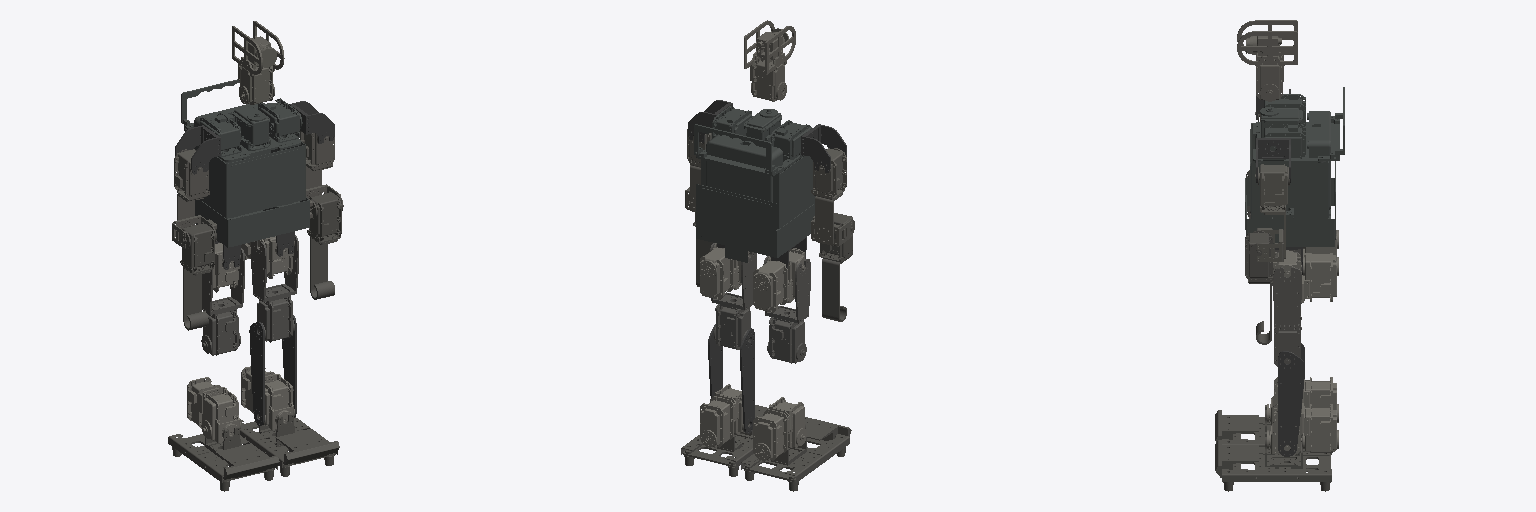
--- Render facts (derived) ---
Views: 3 orthographic renders of the robot side by side, from view 1: azimuth 30°, elevation 25°; view 2: azimuth 150°, elevation 25°; view 3: azimuth 270°, elevation 25°.
Model sigmaban2019_urdf with 27 links and 26 joints (20 revolute, 6 fixed), rooted at tronc, posed every joint at zero.
Links seen in each view (by area): view 1: tronc, right_foot_cleat_back_left, left_foot_cleat_front_right, left_knee, head, right_radius, left_radius, right_knee, mx106_block, right_humerus, tibia_2, mx106_block_mir_2 (+5 smaller); view 2: tronc, right_foot_cleat_back_left, head, right_knee, right_humerus, mx106_block, left_knee, mx106_block_mir_2, mx106_block_mir, tibia_2, right_radius, left_foot_cleat_front_right (+4 smaller); view 3: tronc, left_foot_cleat_front_right, head, left_knee, tibia_2, mx106_block_mir_2, left_humerus, mx106_block_2, right_foot_cleat_back_left, left_radius, mx106_block, u_shoulder.
Link boxes in pixels (<box>): tronc: <box>181,79,309,247</box>; right_foot_cleat_back_left: <box>168,427,279,491</box>; left_foot_cleat_front_right: <box>240,414,339,476</box>; left_knee: <box>251,235,298,342</box>; head: <box>232,21,284,104</box>; right_radius: <box>180,223,216,330</box>; left_radius: <box>307,192,343,299</box>; right_knee: <box>201,248,244,355</box>; mx106_block: <box>187,377,240,442</box>; right_humerus: <box>172,149,216,248</box>; tibia_2: <box>249,315,296,425</box>; mx106_block_mir_2: <box>241,366,294,429</box>; tronc: <box>694,106,815,262</box>; right_foot_cleat_back_left: <box>741,417,851,491</box>; head: <box>744,20,795,101</box>; right_knee: <box>763,256,810,363</box>; right_humerus: <box>811,148,852,246</box>; mx106_block: <box>753,397,806,460</box>; left_knee: <box>710,243,756,349</box>; mx106_block_mir_2: <box>700,384,749,447</box>; mx106_block_mir: <box>753,248,805,312</box>; tibia_2: <box>708,324,754,433</box>; right_radius: <box>819,213,854,321</box>; left_foot_cleat_front_right: <box>681,405,768,476</box>; tronc: <box>1245,87,1344,246</box>; left_foot_cleat_front_right: <box>1215,432,1331,491</box>; head: <box>1237,20,1297,101</box>; left_knee: <box>1272,252,1301,367</box>; tibia_2: <box>1278,343,1304,456</box>; mx106_block_mir_2: <box>1267,403,1338,454</box>; left_humerus: <box>1255,164,1289,261</box>; mx106_block_2: <box>1272,250,1338,302</box>; right_foot_cleat_back_left: <box>1215,405,1301,446</box>; left_radius: <box>1245,230,1273,344</box>; mx106_block: <box>1267,377,1338,424</box>; u_shoulder: <box>1256,138,1290,182</box>.
Bounding box of the posed robot: 0.2736 × 0.1899 × 0.7061 m (x, y, z).
Meshes: 21 distinct files referenced, 19 mesh visuals loaded (19 binary STL); not drawn: 2 (reference not matched to a file when rendering).

The robot description file, URDF, robot "sigmaban2019_urdf":
<?xml version="1.0" ?>
<!-- Generated using onshape-to-robot -->
<!-- OnShape https://cad.onshape.com/documents/41654e89e61a392d020b728c/w/d555ceec170d351622b789de/e/4c9a04a707c36ac7ad2ca0f8 -->
<robot name="sigmaban2019_urdf">
    <!-- Link tronc -->
    <link name="tronc">
        <inertial>
            <origin xyz="0.000280866 0.00434829 0.0901186" rpy="0 0 0"/>
            <mass value="1.49258"/>
            <inertia ixx="0.00652487" ixy="5.5354e-06" ixz="1.87301e-05" iyy="0.00716127" iyz="-0.000110706" izz="0.00434153"/>
        </inertial>
        <!-- Part tronc -->
        <collision>
            <origin xyz="7.29592e-15 0.071323 0.1899" rpy="1.5708 1.5708 0"/>
            <geometry>
                <box size="0.01 0.13 0.003"/>
            </geometry>
        </collision>
        <collision>
            <origin xyz="-0.06 0.071323 0.1649" rpy="1.5708 1.5708 0"/>
            <geometry>
                <box size="0.04 0.01 0.003"/>
            </geometry>
        </collision>
        <collision>
            <origin xyz="0.06 0.071323 0.1649" rpy="1.5708 1.5708 0"/>
            <geometry>
                <box size="0.04 0.01 0.003"/>
            </geometry>
        </collision>
        <collision>
            <origin xyz="0.05 -0.017127 0.1609" rpy="-3.14159 -1.5708 0"/>
            <geometry>
                <box size="0.029 0.05 0.04"/>
            </geometry>
        </collision>
        <collision>
            <origin xyz="0.046375 -0.026254 0.02" rpy="3.14159 1.48609e-23 -3.14159"/>
            <geometry>
                <box size="0.029 0.05 0.04"/>
            </geometry>
        </collision>
        <collision>
            <origin xyz="2.55419e-14 -0.022127 0.1623" rpy="1.12133e-14 -2.28241e-15 -3.14159"/>
            <geometry>
                <box size="0.029 0.05 0.04"/>
            </geometry>
        </collision>
        <collision>
            <origin xyz="1.52206e-14 -0.019127 0.1354" rpy="3.14159 1.48609e-23 -3.14159"/>
            <geometry>
                <box size="0.13 0.08 0.003"/>
            </geometry>
        </collision>
        <collision>
            <origin xyz="0.0625 0.037873 0.0909" rpy="-3.14159 -1.48609e-23 8.63328e-14"/>
            <geometry>
                <cylinder length="0.086" radius="0.004"/>
            </geometry>
        </collision>
        <collision>
            <origin xyz="-0.0625 0.037873 0.0909" rpy="1.80079e-24 -1.48609e-23 8.63328e-14"/>
            <geometry>
                <cylinder length="0.086" radius="0.004"/>
            </geometry>
        </collision>
        <collision>
            <origin xyz="-0.031 -0.054127 0.0909" rpy="1.80079e-24 -1.48609e-23 8.63328e-14"/>
            <geometry>
                <cylinder length="0.086" radius="0.004"/>
            </geometry>
        </collision>
        <collision>
            <origin xyz="1.27053e-14 0.010373 0.0469" rpy="1.78736e-24 -1.48609e-23 8.63328e-14"/>
            <geometry>
                <box size="0.13 0.08 0.003"/>
            </geometry>
        </collision>
        <collision>
            <origin xyz="2.07505e-14 0.031123 0.00149996" rpy="-1.88432e-18 -5.37577e-17 8.62212e-14"/>
            <geometry>
                <box size="0.13 0.044 0.003"/>
            </geometry>
        </collision>
        <collision>
            <origin xyz="-0.03 -0.007877 0.00149996" rpy="-1.88432e-18 -5.37577e-17 8.62212e-14"/>
            <geometry>
                <box size="0.01 0.035 0.003"/>
            </geometry>
        </collision>
        <collision>
            <origin xyz="0.03 -0.007877 0.00149996" rpy="-1.88432e-18 -5.37577e-17 8.62212e-14"/>
            <geometry>
                <box size="0.01 0.035 0.003"/>
            </geometry>
        </collision>
        <collision>
            <origin xyz="-0.046375 -0.026254 0.02" rpy="3.14159 1.48613e-23 -3.14159"/>
            <geometry>
                <box size="0.029 0.05 0.04"/>
            </geometry>
        </collision>
        <collision>
            <origin xyz="1.24036e-14 0.035873 0.10615" rpy="1.5708 1.48609e-23 -3.14159"/>
            <geometry>
                <box size="0.11 0.11 0.033"/>
            </geometry>
        </collision>
        <collision>
            <origin xyz="8.35454e-15 0.059373 0.1384" rpy="-3.14159 1.79405e-24 -1.5708"/>
            <geometry>
                <box size="0.01 0.135 0.003"/>
            </geometry>
        </collision>
        <collision>
            <origin xyz="0.031 -0.054127 0.0914" rpy="1.80079e-24 -1.48609e-23 8.63328e-14"/>
            <geometry>
                <cylinder length="0.086" radius="0.004"/>
            </geometry>
        </collision>
        <collision>
            <origin xyz="-0.0505868 -0.017127 0.1609" rpy="3.14159 1.5708 0"/>
            <geometry>
                <box size="0.029 0.05 0.04"/>
            </geometry>
        </collision>
        <visual>
            <origin xyz="0.000280866 0.00434829 0.0901186" rpy="0 -0 0"/>
            <geometry>
                <mesh filename="package://assets/merged/tronc_visual.stl"/>
            </geometry>
            <material name="tronc_material">
                <color rgba="0.330193 0.345021 0.337569 1.0"/>
            </material>
        </visual>
    </link>
    <!-- Frame trunk (dummy link + fixed joint) -->
    <link name="trunk">
        <origin xyz="0 0 0" rpy="0 -0 0"/>
        <inertial>
            <origin xyz="0 0 0" rpy="0 0 0"/>
            <mass value="1e-9"/>
            <inertia ixx="0" ixy="0" ixz="0" iyy="0" iyz="0" izz="0"/>
        </inertial>
    </link>
    <joint name="trunk_frame" type="fixed">
        <origin xyz="2.43796e-14 -0.011254 -0.0435" rpy="-5.7251e-17 -1.88432e-18 -1.5708"/>
        <parent link="tronc"/>
        <child link="trunk"/>
        <axis xyz="0 0 0"/>
    </joint>
    <!-- Frame head_base (dummy link + fixed joint) -->
    <link name="head_base">
        <origin xyz="0 0 0" rpy="0 -0 0"/>
        <inertial>
            <origin xyz="0 0 0" rpy="0 0 0"/>
            <mass value="1e-9"/>
            <inertia ixx="0" ixy="0" ixz="0" iyy="0" iyz="0" izz="0"/>
        </inertial>
    </link>
    <joint name="head_base_frame" type="fixed">
        <origin xyz="2.67832e-14 -0.037127 0.1858" rpy="2.77556e-17 1.38778e-17 -1.5708"/>
        <parent link="tronc"/>
        <child link="head_base"/>
        <axis xyz="0 0 0"/>
    </joint>
    <!-- Link u_block -->
    <link name="u_block">
        <inertial>
            <origin xyz="-0.00607049 -2.12569e-09 -0.0117654" rpy="0 0 0"/>
            <mass value="0.0354404"/>
            <inertia ixx="8.64707e-06" ixy="-2.51587e-12" ixz="-7.76843e-07" iyy="2.30163e-05" iyz="-7.59825e-13" izz="2.00312e-05"/>
        </inertial>
        <!-- Part u_block -->
        <collision>
            <origin xyz="-0.00494 -5.29611e-19 -0.003" rpy="3.14159 -3.5853e-41 3.12137e-42"/>
            <geometry>
                <box size="0.05 0.03 0.006"/>
            </geometry>
        </collision>
        <collision>
            <origin xyz="-0.03144 -3.75877e-17 -0.023" rpy="-1.5708 9.35682e-17 -1.5708"/>
            <geometry>
                <box size="0.025 0.044 0.003"/>
            </geometry>
        </collision>
        <collision>
            <origin xyz="0.0219 3.99975e-17 -0.023" rpy="-1.5708 3.9526e-17 1.5708"/>
            <geometry>
                <box size="0.027 0.042 0.003"/>
            </geometry>
        </collision>
        <visual>
            <origin xyz="-0.00607049 -2.12569e-09 -0.0117654" rpy="-1.79413e-24 1.64794e-16 -1.5708"/>
            <geometry>
                <mesh filename="package://assets/merged/u_block_visual.stl"/>
            </geometry>
            <material name="u_block_material">
                <color rgba="0.301961 0.301961 0.301961 1.0"/>
            </material>
        </visual>
    </link>
    <!-- Link mx106_block_mir -->
    <link name="mx106_block_mir">
        <inertial>
            <origin xyz="0.000708644 -0.0149916 0.004996" rpy="0 0 0"/>
            <mass value="0.293468"/>
            <inertia ixx="0.000351924" ixy="-3.56118e-06" ixz="-3.81447e-06" iyy="0.000307324" iyz="-2.48449e-05" izz="0.000137869"/>
        </inertial>
        <!-- Part mx106_block_mir -->
        <collision>
            <origin xyz="-1.724e-14 -0.015 0.0234" rpy="2.89425e-13 -1.5708 0"/>
            <geometry>
                <box size="0.03 0.055 0.04"/>
            </geometry>
        </collision>
        <collision>
            <origin xyz="9.75782e-19 -0.015 -0.026" rpy="-1.68105e-40 3.81268e-29 -1.37931e-29"/>
            <geometry>
                <box size="0.03 0.055 0.04"/>
            </geometry>
        </collision>
        <visual>
            <origin xyz="0.000708644 -0.0149916 0.004996" rpy="-1.5708 -5.40601e-13 2.89492e-13"/>
            <geometry>
                <mesh filename="package://assets/merged/mx106_block_mir_visual.stl"/>
            </geometry>
            <material name="mx106_block_mir_material">
                <color rgba="0.491153 0.482215 0.458379 1.0"/>
            </material>
        </visual>
    </link>
    <!-- Link right_knee -->
    <link name="right_knee">
        <inertial>
            <origin xyz="0.000188839 -0.092394 0.0273957" rpy="0 0 0"/>
            <mass value="0.202752"/>
            <inertia ixx="0.000442788" ixy="-7.67062e-08" ixz="-2.55348e-08" iyy="9.69639e-05" iyz="1.17863e-05" izz="0.000385387"/>
        </inertial>
        <!-- Part right_knee -->
        <collision>
            <origin xyz="2.53138e-14 -0.125 0.026" rpy="-3.14159 -1.81887e-16 4.5397e-13"/>
            <geometry>
                <box size="0.03 0.055 0.04"/>
            </geometry>
        </collision>
        <collision>
            <origin xyz="3.70906e-16 -0.0825 0.026" rpy="-1.5708 1.5708 0"/>
            <geometry>
                <box size="0.047 0.0275 0.006"/>
            </geometry>
        </collision>
        <collision>
            <origin xyz="1.02782e-16 -0.0395 0.0535" rpy="4.996e-16 -2.77556e-16 1.32533e-15"/>
            <geometry>
                <box size="0.04 0.09 0.003"/>
            </geometry>
        </collision>
        <collision>
            <origin xyz="-6.77626e-19 -0.0395 -0.0015" rpy="-3.64812e-34 3.52046e-29 -2.74809e-32"/>
            <geometry>
                <box size="0.04 0.09 0.003"/>
            </geometry>
        </collision>
        <visual>
            <origin xyz="0.000188839 -0.092394 0.0273957" rpy="-1.5708 -1.5708 0"/>
            <geometry>
                <mesh filename="package://assets/merged/right_knee_visual.stl"/>
            </geometry>
            <material name="right_knee_material">
                <color rgba="0.388865 0.38476 0.373811 1.0"/>
            </material>
        </visual>
    </link>
    <!-- Link tibia -->
    <link name="tibia">
        <inertial>
            <origin xyz="-0.00342169 0.0646068 0.026" rpy="0 0 0"/>
            <mass value="0.0888437"/>
            <inertia ixx="0.000245247" ixy="-6.12719e-06" ixz="1.44286e-11" iyy="7.67255e-05" iyz="3.8066e-11" izz="0.000187463"/>
        </inertial>
        <!-- Part tibia -->
        <collision>
            <origin xyz="8.67362e-19 0.067 -0.0015" rpy="3.14159 -2.39826e-29 0"/>
            <geometry>
                <box size="0.03 0.165 0.003"/>
            </geometry>
        </collision>
        <collision>
            <origin xyz="6.93889e-18 0.067 0.0535" rpy="-3.14159 -3.60822e-16 1.11022e-16"/>
            <geometry>
                <box size="0.03 0.165 0.003"/>
            </geometry>
        </collision>
        <visual>
            <origin xyz="-0.00342169 0.0646068 0.026" rpy="1.5708 -1.5708 0"/>
            <geometry>
                <mesh filename="package://assets/merged/tibia_visual.stl"/>
            </geometry>
            <material name="tibia_material">
                <color rgba="0.301961 0.301961 0.301961 1.0"/>
            </material>
        </visual>
    </link>
    <!-- Link mx106_block -->
    <link name="mx106_block">
        <inertial>
            <origin xyz="0.0184063 0.0149916 0.027049" rpy="0 0 0"/>
            <mass value="0.293468"/>
            <inertia ixx="0.000137693" ixy="-2.48419e-05" ixz="5.67913e-06" iyy="0.000307124" iyz="3.25323e-06" izz="0.0003519"/>
        </inertial>
        <!-- Part mx106_block -->
        <collision>
            <origin xyz="0 0.015 0.026" rpy="-3.14159 1.04974e-29 5.28557e-30"/>
            <geometry>
                <box size="0.03 0.055 0.04"/>
            </geometry>
        </collision>
        <collision>
            <origin xyz="0.0494 0.015 0.026" rpy="-3.14159 1.5708 0"/>
            <geometry>
                <box size="0.03 0.055 0.04"/>
            </geometry>
        </collision>
        <visual>
            <origin xyz="0.0184063 0.0149916 0.027049" rpy="-1.5708 -1.5708 0"/>
            <geometry>
                <mesh filename="package://assets/merged/mx106_block_visual.stl"/>
            </geometry>
            <material name="mx106_block_material">
                <color rgba="0.491153 0.482215 0.458379 1.0"/>
            </material>
        </visual>
    </link>
    <!-- Link right_foot_cleat_back_left -->
    <link name="right_foot_cleat_back_left">
        <inertial>
            <origin xyz="-0.00468466 -0.0365779 0.0511529" rpy="0 0 0"/>
            <mass value="0.239067"/>
            <inertia ixx="0.000628183" ixy="-1.62629e-06" ixz="4.22638e-06" iyy="0.000791509" iyz="-2.53047e-05" izz="0.000201629"/>
        </inertial>
        <!-- Part right_foot_cleat_back_left -->
        <collision>
            <origin xyz="-0.0055 -0.0275 0.12247" rpy="3.14159 0.785398 -1.5708"/>
            <geometry>
                <box size="0.01 0.09 0.01"/>
            </geometry>
        </collision>
        <collision>
            <origin xyz="-0.0055 -0.0415 0.03867" rpy="1.5708 -2.34865e-17 3.14159"/>
            <geometry>
                <box size="0.09 0.155 0.003"/>
            </geometry>
        </collision>
        <collision>
            <origin xyz="1.56125e-17 -0.037 0.02834" rpy="-1.5708 1.5708 0"/>
            <geometry>
                <box size="0.05 0.03 0.006"/>
            </geometry>
        </collision>
        <collision>
            <origin xyz="6.93889e-17 -0.017 0.05484" rpy="-3.14159 -2.42855e-17 3.14159"/>
            <geometry>
                <box size="0.025 0.044 0.003"/>
            </geometry>
        </collision>
        <collision>
            <origin xyz="6.93889e-18 -0.017 0.0015" rpy="-1.36882e-30 1.1038e-29 2.36811e-31"/>
            <geometry>
                <box size="0.027 0.042 0.003"/>
            </geometry>
        </collision>
        <collision>
            <origin xyz="0.0325 -0.05 0.10947" rpy="1.5708 0.555221 -2.37021e-15"/>
            <geometry>
                <cylinder length="0.02" radius="0.008"/>
            </geometry>
        </collision>
        <collision>
            <origin xyz="-0.0435 -0.05 0.10947" rpy="-1.5708 0.199727 3.14159"/>
            <geometry>
                <cylinder length="0.02" radius="0.008"/>
            </geometry>
        </collision>
        <collision>
            <origin xyz="0.0325 -0.05 -0.03213" rpy="1.5708 -0.311457 -2.11626e-15"/>
            <geometry>
                <cylinder length="0.02" radius="0.008"/>
            </geometry>
        </collision>
        <collision>
            <origin xyz="-0.0435 -0.05 -0.03213" rpy="-1.5708 0.199727 3.14159"/>
            <geometry>
                <cylinder length="0.02" radius="0.008"/>
            </geometry>
        </collision>
        <visual>
            <origin xyz="-0.00468466 -0.0365779 0.0511529" rpy="-1.5708 -5.42073e-13 -4.08558e-15"/>
            <geometry>
                <mesh filename="package://assets/merged/right_foot_cleat_back_left_visual.stl"/>
            </geometry>
            <material name="right_foot_cleat_back_left_material">
                <color rgba="0.3811 0.375396 0.359887 1.0"/>
            </material>
        </visual>
    </link>
    <!-- Frame right_foot (dummy link + fixed joint) -->
    <link name="right_foot">
        <origin xyz="0 0 0" rpy="0 -0 0"/>
        <inertial>
            <origin xyz="0 0 0" rpy="0 0 0"/>
            <mass value="1e-9"/>
            <inertia ixx="0" ixy="0" ixz="0" iyy="0" iyz="0" izz="0"/>
        </inertial>
    </link>
    <joint name="right_foot_frame" type="fixed">
        <origin xyz="-5.55112e-17 -0.06 0.02317" rpy="-1.5708 -1.5708 0"/>
        <parent link="right_foot_cleat_back_left"/>
        <child link="right_foot"/>
        <axis xyz="0 0 0"/>
    </joint>
    <!-- Joint from mx106_block to right_foot_cleat_back_left -->
    <joint name="right_ankle_roll" type="revolute">
        <origin xyz="0.0234 4.55191e-15 0.026" rpy="-7.80481e-16 -1.5708 0"/>
        <parent link="mx106_block"/>
        <child link="right_foot_cleat_back_left"/>
        <axis xyz="0 0 1"/>
        <limit effort="10" velocity="6" lower="-3.141592653589793" upper="3.141592653589793"/>
    </joint>
    <!-- Joint from tibia to mx106_block -->
    <joint name="right_ankle_pitch" type="revolute">
        <origin xyz="1.38778e-17 0.14 0" rpy="-1.83187e-15 2.77556e-16 -3.14159"/>
        <parent link="tibia"/>
        <child link="mx106_block"/>
        <axis xyz="0 0 1"/>
        <limit effort="10" velocity="6" lower="-3.141592653589793" upper="3.141592653589793"/>
    </joint>
    <!-- Joint from right_knee to tibia -->
    <joint name="right_knee" type="revolute">
        <origin xyz="3.21514e-14 -0.14 3.60822e-16" rpy="-7.13043e-16 -3.36029e-16 -3.14159"/>
        <parent link="right_knee"/>
        <child link="tibia"/>
        <axis xyz="0 0 1"/>
        <limit effort="10" velocity="6" lower="-3.141592653589793" upper="3.141592653589793"/>
    </joint>
    <!-- Joint from mx106_block_mir to right_knee -->
    <joint name="right_hip_pitch" type="revolute">
        <origin xyz="-0.026 -1.04222e-14 0.0234" rpy="-2.8919e-13 1.5708 0"/>
        <parent link="mx106_block_mir"/>
        <child link="right_knee"/>
        <axis xyz="0 0 1"/>
        <limit effort="10" velocity="6" lower="-3.141592653589793" upper="3.141592653589793"/>
    </joint>
    <!-- Joint from u_block to mx106_block_mir -->
    <joint name="right_hip_roll" type="revolute">
        <origin xyz="0.0234 3.46945e-17 -0.04" rpy="1.5708 2.89657e-13 -1.5708"/>
        <parent link="u_block"/>
        <child link="mx106_block_mir"/>
        <axis xyz="0 0 1"/>
        <limit effort="10" velocity="6" lower="-3.141592653589793" upper="3.141592653589793"/>
    </joint>
    <!-- Joint from tronc to u_block -->
    <joint name="right_hip_yaw" type="revolute">
        <origin xyz="-0.046375 -0.011254 -0.00350004" rpy="-1.64794e-16 -1.79404e-24 1.5708"/>
        <parent link="tronc"/>
        <child link="u_block"/>
        <axis xyz="0 0 1"/>
        <limit effort="10" velocity="6" lower="-3.141592653589793" upper="3.141592653589793"/>
    </joint>
    <!-- Link u_block_2 -->
    <link name="u_block_2">
        <inertial>
            <origin xyz="-0.00607049 -2.12569e-09 -0.0117654" rpy="0 0 0"/>
            <mass value="0.0354404"/>
            <inertia ixx="8.64707e-06" ixy="-2.51587e-12" ixz="-7.76843e-07" iyy="2.30163e-05" iyz="-7.59825e-13" izz="2.00312e-05"/>
        </inertial>
        <!-- Part u_block_2 -->
        <collision>
            <origin xyz="-0.00494 -1.95522e-19 -0.003" rpy="-3.14159 3.18039e-32 6.12454e-30"/>
            <geometry>
                <box size="0.05 0.03 0.006"/>
            </geometry>
        </collision>
        <collision>
            <origin xyz="-0.03144 5.61338e-18 -0.023" rpy="-1.5708 -6.60998e-17 -1.5708"/>
            <geometry>
                <box size="0.025 0.044 0.003"/>
            </geometry>
        </collision>
        <collision>
            <origin xyz="0.0219 6.35324e-18 -0.023" rpy="-1.5708 -1.91186e-17 1.5708"/>
            <geometry>
                <box size="0.027 0.042 0.003"/>
            </geometry>
        </collision>
        <visual>
            <origin xyz="-0.00607049 -2.12569e-09 -0.0117654" rpy="-3.13509e-16 -2.2682e-16 -1.5708"/>
            <geometry>
                <mesh filename="package://assets/merged/u_block_2_visual.stl"/>
            </geometry>
            <material name="u_block_2_material">
                <color rgba="0.301961 0.301961 0.301961 1.0"/>
            </material>
        </visual>
    </link>
    <!-- Link mx106_block_2 -->
    <link name="mx106_block_2">
        <inertial>
            <origin xyz="-0.00104898 -0.0149916 0.00499375" rpy="0 0 0"/>
            <mass value="0.293468"/>
            <inertia ixx="0.0003519" ixy="3.25323e-06" ixz="5.67913e-06" iyy="0.000307124" iyz="-2.48419e-05" izz="0.000137693"/>
        </inertial>
        <!-- Part mx106_block_2 -->
        <collision>
            <origin xyz="-1.72911e-14 -0.015 0.0234" rpy="-2.88049e-13 1.5708 0"/>
            <geometry>
                <box size="0.03 0.055 0.04"/>
            </geometry>
        </collision>
        <collision>
            <origin xyz="-6.28837e-18 -0.015 -0.026" rpy="-3.62267e-32 -6.45673e-30 -2.33386e-29"/>
            <geometry>
                <box size="0.03 0.055 0.04"/>
            </geometry>
        </collision>
        <visual>
            <origin xyz="-0.00104898 -0.0149916 0.00499375" rpy="-1.5708 -8.6382e-14 2.88507e-13"/>
            <geometry>
                <mesh filename="package://assets/merged/mx106_block_2_visual.stl"/>
            </geometry>
            <material name="mx106_block_2_material">
                <color rgba="0.491153 0.482215 0.458379 1.0"/>
            </material>
        </visual>
    </link>
    <!-- Link left_knee -->
    <link name="left_knee">
        <inertial>
            <origin xyz="-0.000185582 0.092394 -0.0271483" rpy="0 0 0"/>
            <mass value="0.202752"/>
            <inertia ixx="0.000442915" ixy="-1.01212e-07" ixz="1.22181e-07" iyy="9.70917e-05" iyz="1.18508e-05" izz="0.000385387"/>
        </inertial>
        <!-- Part left_knee -->
        <collision>
            <origin xyz="-2.48284e-14 0.125 -0.026" rpy="7.17623e-16 -2.98198e-16 4.53605e-13"/>
            <geometry>
                <box size="0.03 0.055 0.04"/>
            </geometry>
        </collision>
        <collision>
            <origin xyz="6.18808e-17 0.0825 -0.026" rpy="1.5708 -1.5708 0"/>
            <geometry>
                <box size="0.047 0.0275 0.006"/>
            </geometry>
        </collision>
        <collision>
            <origin xyz="4.30157e-17 0.0395 -0.0535" rpy="-3.14159 -3.59516e-17 -5.14922e-16"/>
            <geometry>
                <box size="0.04 0.09 0.003"/>
            </geometry>
        </collision>
        <collision>
            <origin xyz="1.51788e-18 0.0395 0.0015" rpy="-3.14159 -2.13064e-30 -1.27058e-31"/>
            <geometry>
                <box size="0.04 0.09 0.003"/>
            </geometry>
        </collision>
        <visual>
            <origin xyz="-0.000185582 0.092394 -0.0271483" rpy="1.5708 -1.5708 0"/>
            <geometry>
                <mesh filename="package://assets/merged/left_knee_visual.stl"/>
            </geometry>
            <material name="left_knee_material">
                <color rgba="0.388865 0.38476 0.373811 1.0"/>
            </material>
        </visual>
    </link>
    <!-- Link tibia_2 -->
    <link name="tibia_2">
        <inertial>
            <origin xyz="-0.00342169 0.0646068 -0.026" rpy="0 0 0"/>
            <mass value="0.0888437"/>
            <inertia ixx="0.000245247" ixy="-6.12719e-06" ixz="1.44286e-11" iyy="7.67255e-05" iyz="3.8066e-11" izz="0.000187463"/>
        </inertial>
        <!-- Part tibia_2 -->
        <collision>
            <origin xyz="2.23346e-16 0.067 -0.0535" rpy="3.14159 -1.29393e-16 3.04496e-16"/>
            <geometry>
                <box size="0.03 0.165 0.003"/>
            </geometry>
        </collision>
        <collision>
            <origin xyz="1.30104e-18 0.067 0.0015" rpy="3.14159 6.77291e-30 -4.57972e-31"/>
            <geometry>
                <box size="0.03 0.165 0.003"/>
            </geometry>
        </collision>
        <visual>
            <origin xyz="-0.00342169 0.0646068 -0.026" rpy="1.5708 -1.5708 0"/>
            <geometry>
                <mesh filename="package://assets/merged/tibia_2_visual.stl"/>
            </geometry>
            <material name="tibia_2_material">
                <color rgba="0.301961 0.301961 0.301961 1.0"/>
            </material>
        </visual>
    </link>
    <!-- Link mx106_block_mir_2 -->
    <link name="mx106_block_mir_2">
        <inertial>
            <origin xyz="-0.018404 -0.0149916 -0.0267086" rpy="0 0 0"/>
            <mass value="0.293468"/>
            <inertia ixx="0.000137869" ixy="-2.48449e-05" ixz="3.81447e-06" iyy="0.000307324" iyz="3.56118e-06" izz="0.000351924"/>
        </inertial>
        <!-- Part mx106_block_mir_2 -->
        <collision>
            <origin xyz="3.46945e-18 -0.015 -0.026" rpy="0 1.07112e-29 -5.04871e-29"/>
            <geometry>
                <box size="0.03 0.055 0.04"/>
            </geometry>
        </collision>
        <collision>
            <origin xyz="-0.0494 -0.015 -0.026" rpy="-4.54893e-13 1.5708 0"/>
            <geometry>
                <box size="0.03 0.055 0.04"/>
            </geometry>
        </collision>
        <visual>
            <origin xyz="-0.018404 -0.0149916 -0.0267086" rpy="1.5708 -1.5708 0"/>
            <geometry>
                <mesh filename="package://assets/merged/mx106_block_mir_2_visual.stl"/>
            </geometry>
            <material name="mx106_block_mir_2_material">
                <color rgba="0.491153 0.482215 0.458379 1.0"/>
            </material>
        </visual>
    </link>
    <!-- Link left_foot_cleat_front_right -->
    <link name="left_foot_cleat_front_right">
        <inertial>
            <origin xyz="0.00468466 -0.0365779 0.0511529" rpy="0 0 0"/>
            <mass value="0.239067"/>
            <inertia ixx="0.000628183" ixy="1.62629e-06" ixz="-4.22638e-06" iyy="0.000791509" iyz="-2.53047e-05" izz="0.000201629"/>
        </inertial>
        <!-- Part left_foot_cleat_front_right -->
        <collision>
            <origin xyz="0.0055 -0.0275 0.12247" rpy="-3.14159 0.785398 -1.5708"/>
            <geometry>
                <box size="0.01 0.09 0.01"/>
            </geometry>
        </collision>
        <collision>
            <origin xyz="0.0055 -0.0415 0.03867" rpy="1.5708 7.48198e-16 -3.14159"/>
            <geometry>
                <box size="0.09 0.155 0.003"/>
            </geometry>
        </collision>
        <collision>
            <origin xyz="-1.64799e-17 -0.037 0.02834" rpy="-1.5708 1.5708 0"/>
            <geometry>
                <box size="0.05 0.03 0.006"/>
            </geometry>
        </collision>
        <collision>
            <origin xyz="-8.76035e-17 -0.017 0.05484" rpy="-3.14159 -3.72098e-16 -3.14159"/>
            <geometry>
                <box size="0.025 0.044 0.003"/>
            </geometry>
        </collision>
        <collision>
            <origin xyz="2.60209e-18 -0.017 0.0015" rpy="-1.0102e-28 4.49356e-30 2.31749e-31"/>
            <geometry>
                <box size="0.027 0.042 0.003"/>
            </geometry>
        </collision>
        <collision>
            <origin xyz="0.0435 -0.05 0.10947" rpy="-1.5708 0.480536 3.14159"/>
            <geometry>
                <cylinder length="0.02" radius="0.008"/>
            </geometry>
        </collision>
        <collision>
            <origin xyz="-0.0325 -0.05 0.10947" rpy="-1.5708 0.480536 3.14159"/>
            <geometry>
                <cylinder length="0.02" radius="0.008"/>
            </geometry>
        </collision>
        <collision>
            <origin xyz="0.0435 -0.05 -0.03213" rpy="-1.5708 0.480536 3.14159"/>
            <geometry>
                <cylinder length="0.02" radius="0.008"/>
            </geometry>
        </collision>
        <collision>
            <origin xyz="-0.0325 -0.05 -0.03213" rpy="-1.5708 0.480536 -3.14159"/>
            <geometry>
                <cylinder length="0.02" radius="0.008"/>
            </geometry>
        </collision>
        <visual>
            <origin xyz="0.00468466 -0.0365779 0.0511529" rpy="-1.5708 -8.5963e-14 6.06172e-15"/>
            <geometry>
                <mesh filename="package://assets/merged/left_foot_cleat_front_right_visual.stl"/>
            </geometry>
            <material name="left_foot_cleat_front_right_material">
                <color rgba="0.3811 0.375396 0.359887 1.0"/>
            </material>
        </visual>
    </link>
    <!-- Frame left_foot (dummy link + fixed joint) -->
    <link name="left_foot">
        <origin xyz="0 0 0" rpy="0 -0 0"/>
        <inertial>
            <origin xyz="0 0 0" rpy="0 0 0"/>
            <mass value="1e-9"/>
            <inertia ixx="0" ixy="0" ixz="0" iyy="0" iyz="0" izz="0"/>
        </inertial>
    </link>
    <joint name="left_foot_frame" type="fixed">
        <origin xyz="-2.498e-16 -0.06 0.02317" rpy="-1.5708 -1.5708 0"/>
        <parent link="left_foot_cleat_front_right"/>
        <child link="left_foot"/>
        <axis xyz="0 0 0"/>
    </joint>
    <!-- Joint from mx106_block_mir_2 to left_foot_cleat_front_right -->
    <joint name="left_ankle_roll" type="revolute">
        <origin xyz="-0.0234 -7.71605e-15 -0.026" rpy="-3.14159 -1.5708 0"/>
        <parent link="mx106_block_mir_2"/>
        <child link="left_foot_cleat_front_right"/>
        <axis xyz="0 0 1"/>
        <limit effort="10" velocity="6" lower="-3.141592653589793" upper="3.141592653589793"/>
    </joint>
    <!-- Joint from tibia_2 to mx106_block_mir_2 -->
    <joint name="left_ankle_pitch" type="revolute">
        <origin xyz="1.56125e-17 0.14 0" rpy="-1.04225e-15 -1.02268e-16 -3.09772e-16"/>
        <parent link="tibia_2"/>
        <child link="mx106_block_mir_2"/>
        <axis xyz="0 0 1"/>
        <limit effort="10" velocity="6" lower="-3.141592653589793" upper="3.141592653589793"/>
    </joint>
    <!-- Joint from left_knee to tibia_2 -->
    <joint name="left_knee" type="revolute">
        <origin xyz="-3.16396e-14 0.14 1.9984e-14" rpy="1.64154e-15 -1.88306e-16 4.53915e-13"/>
        <parent link="left_knee"/>
        <child link="tibia_2"/>
        <axis xyz="0 0 1"/>
        <limit effort="10" velocity="6" lower="-3.141592653589793" upper="3.141592653589793"/>
    </joint>
    <!-- Joint from mx106_block_2 to left_knee -->
    <joint name="left_hip_pitch" type="revolute">
        <origin xyz="0.026 1.24623e-14 0.0234" rpy="-3.14159 -1.5708 0"/>
        <parent link="mx106_block_2"/>
        <child link="left_knee"/>
        <axis xyz="0 0 1"/>
        <limit effort="10" velocity="6" lower="-3.141592653589793" upper="3.141592653589793"/>
    </joint>
    <!-- Joint from u_block_2 to mx106_block_2 -->
    <joint name="left_hip_roll" type="revolute">
        <origin xyz="0.0234 6.93889e-18 -0.04" rpy="1.5708 2.8828e-13 -1.5708"/>
        <parent link="u_block_2"/>
        <child link="mx106_block_2"/>
        <axis xyz="0 0 1"/>
        <limit effort="10" velocity="6" lower="-3.141592653589793" upper="3.141592653589793"/>
    </joint>
    <!-- Joint from tronc to u_block_2 -->
    <joint name="left_hip_yaw" type="revolute">
        <origin xyz="0.046375 -0.011254 -0.00349999" rpy="2.2682e-16 -3.13509e-16 1.5708"/>
        <parent link="tronc"/>
        <child link="u_block_2"/>
        <axis xyz="0 0 1"/>
        <limit effort="10" velocity="6" lower="-3.141592653589793" upper="3.141592653589793"/>
    </joint>
    <!-- Link u_shoulder -->
    <link name="u_shoulder">
        <inertial>
            <origin xyz="-9.73075e-18 0.00486029 0.0167829" rpy="0 0 0"/>
            <mass value="0.042898"/>
            <inertia ixx="1.57991e-05" ixy="1.55549e-20" ixz="-9.89815e-21" iyy="2.84983e-05" iyz="-3.76137e-06" izz="2.50037e-05"/>
        </inertial>
        <!-- Part u_shoulder -->
        <visual>
            <origin xyz="-1.38778e-17 0.00486029 0.0167829" rpy="1.5708 -1.5708 0"/>
            <geometry>
                <mesh filename="package://assets/merged/u_shoulder_visual.stl"/>
            </geometry>
            <material name="u_shoulder_material">
                <color rgba="0.301961 0.301961 0.301961 1.0"/>
            </material>
        </visual>
    </link>
    <!-- Link left_humerus -->
    <link name="left_humerus">
        <inertial>
            <origin xyz="-0.00126251 -0.0436099 -0.0264304" rpy="0 0 0"/>
            <mass value="0.160913"/>
            <inertia ixx="0.000298866" ixy="-1.14436e-05" ixz="2.70833e-06" iyy="5.22003e-05" iyz="-2.91954e-06" izz="0.000291858"/>
        </inertial>
        <!-- Part left_humerus -->
        <collision>
            <origin xyz="-1.00432e-14 -0.092 -0.0391736" rpy="3.45444e-16 -1.5708 0"/>
            <geometry>
                <box size="0.003 0.07 0.03"/>
            </geometry>
        </collision>
        <collision>
            <origin xyz="-1.00274e-14 -0.054 -0.0231736" rpy="3.45444e-16 -1.5708 0"/>
            <geometry>
                <box size="0.03 0.003 0.03"/>
            </geometry>
        </collision>
        <collision>
            <origin xyz="-6.93889e-18 -0.015 -0.0235" rpy="-3.69779e-32 5.7326e-32 1.84671e-33"/>
            <geometry>
                <box size="0.029 0.05 0.04"/>
            </geometry>
        </collision>
        <visual>
            <origin xyz="-0.00126251 -0.0436099 -0.0264304" rpy="-1.5708 -8.66163e-14 5.82834e-17"/>
            <geometry>
                <mesh filename="package://assets/merged/left_humerus_visual.stl"/>
            </geometry>
            <material name="left_humerus_material">
                <color rgba="0.413637 0.406669 0.387489 1.0"/>
            </material>
        </visual>
    </link>
    <!-- Link left_radius -->
    <link name="left_radius">
        <inertial>
            <origin xyz="0.00327966 -0.0430868 -0.0251932" rpy="0 0 0"/>
            <mass value="0.15357"/>
            <inertia ixx="0.000332027" ixy="2.83043e-05" ixz="-7.76862e-07" iyy="4.10668e-05" iyz="9.63669e-06" izz="0.000323367"/>
        </inertial>
        <!-- Part left_radius -->
        <collision>
            <origin xyz="0.018 -0.0985 -0.0235" rpy="-3.14159 -1.63297e-15 3.14159"/>
            <geometry>
                <box size="0.003 0.085 0.03"/>
            </geometry>
        </collision>
        <collision>
            <origin xyz="0.0075 -0.141 -0.0235" rpy="-3.14159 -1.63297e-15 3.14159"/>
            <geometry>
                <cylinder length="0.03" radius="0.012"/>
            </geometry>
        </collision>
        <collision>
            <origin xyz="4.33681e-18 -0.015 -0.0235" rpy="2.98462e-31 -6.96352e-30 4.98955e-29"/>
            <geometry>
                <box size="0.029 0.05 0.04"/>
            </geometry>
        </collision>
        <visual>
            <origin xyz="0.00327966 -0.0430868 -0.0251932" rpy="-1.5708 -1.5708 0"/>
            <geometry>
                <mesh filename="package://assets/merged/left_radius_visual.stl"/>
            </geometry>
            <material name="left_radius_material">
                <color rgba="0.371948 0.366528 0.352073 1.0"/>
            </material>
        </visual>
    </link>
    <!-- Joint from left_humerus to left_radius -->
    <joint name="left_elbow" type="revolute">
        <origin xyz="0.0235 -0.112 -0.00167365" rpy="4.539e-13 1.5708 0"/>
        <parent link="left_humerus"/>
        <child link="left_radius"/>
        <axis xyz="0 0 1"/>
        <limit effort="10" velocity="6" lower="-3.141592653589793" upper="3.141592653589793"/>
    </joint>
    <!-- Joint from u_shoulder to left_humerus -->
    <joint name="left_shoulder_roll" type="revolute">
        <origin xyz="0.0225 0.03 0.035" rpy="3.14159 -1.5708 0"/>
        <parent link="u_shoulder"/>
        <child link="left_humerus"/>
        <axis xyz="0 0 1"/>
        <limit effort="10" velocity="6" lower="-3.141592653589793" upper="3.141592653589793"/>
    </joint>
    <!-- Joint from tronc to u_shoulder -->
    <joint name="left_shoulder_pitch" type="revolute">
        <origin xyz="0.0735 -0.032127 0.1609" rpy="-1.5708 -5.08852e-16 -1.5708"/>
        <parent link="tronc"/>
        <child link="u_shoulder"/>
        <axis xyz="0 0 1"/>
        <limit effort="10" velocity="6" lower="-3.141592653589793" upper="3.141592653589793"/>
    </joint>
    <!-- Link u_shoulder_2 -->
    <link name="u_shoulder_2">
        <inertial>
            <origin xyz="1.72211e-18 -0.00486029 -0.0167829" rpy="0 0 0"/>
            <mass value="0.042898"/>
            <inertia ixx="1.57991e-05" ixy="-1.20122e-20" ixz="1.17155e-20" iyy="2.84983e-05" iyz="-3.76137e-06" izz="2.50037e-05"/>
        </inertial>
        <!-- Part u_shoulder_2 -->
        <visual>
            <origin xyz="0 -0.00486029 -0.0167829" rpy="-1.5708 -1.5708 0"/>
            <geometry>
                <mesh filename="package://assets/merged/u_shoulder_2_visual.stl"/>
            </geometry>
            <material name="u_shoulder_2_material">
                <color rgba="0.301961 0.301961 0.301961 1.0"/>
            </material>
        </visual>
    </link>
    <!-- Link right_humerus -->
    <link name="right_humerus">
        <inertial>
            <origin xyz="0.00126251 -0.0436099 -0.0271147" rpy="0 0 0"/>
            <mass value="0.160913"/>
            <inertia ixx="0.000298586" ixy="1.14436e-05" ixz="-2.52758e-06" iyy="5.19202e-05" iyz="-5.286e-06" izz="0.000291858"/>
        </inertial>
        <!-- Part right_humerus -->
        <collision>
            <origin xyz="-1.12445e-14 -0.092 -0.04" rpy="-4.54407e-13 -1.5708 0"/>
            <geometry>
                <box size="0.003 0.07 0.03"/>
            </geometry>
        </collision>
        <collision>
            <origin xyz="6.03185e-15 -0.054 -0.024" rpy="-4.54407e-13 -1.5708 0"/>
            <geometry>
                <box size="0.03 0.003 0.03"/>
            </geometry>
        </collision>
        <collision>
            <origin xyz="4.33681e-19 -0.015 -0.0235" rpy="-6.21528e-33 -3.83316e-31 7.07151e-34"/>
            <geometry>
                <box size="0.029 0.05 0.04"/>
            </geometry>
        </collision>
        <visual>
            <origin xyz="0.00126251 -0.0436099 -0.0271147" rpy="-1.5708 -8.54838e-14 -1.8792e-17"/>
            <geometry>
                <mesh filename="package://assets/merged/right_humerus_visual.stl"/>
            </geometry>
            <material name="right_humerus_material">
                <color rgba="0.413637 0.406669 0.387489 1.0"/>
            </material>
        </visual>
    </link>
    <!-- Link right_radius -->
    <link name="right_radius">
        <inertial>
            <origin xyz="-0.00327966 0.0430868 0.0248666" rpy="0 0 0"/>
            <mass value="0.15357"/>
            <inertia ixx="0.00033218" ixy="2.83043e-05" ixz="-7.64256e-07" iyy="4.12202e-05" iyz="9.80244e-06" izz="0.000323367"/>
        </inertial>
        <!-- Part right_radius -->
        <collision>
            <origin xyz="-0.018 0.0985 0.0235" rpy="-3.14159 -1.82781e-15 -2.61184e-16"/>
            <geometry>
                <box size="0.003 0.085 0.03"/>
            </geometry>
        </collision>
        <collision>
            <origin xyz="-0.0075 0.141 0.0235" rpy="-3.14159 -1.82781e-15 -2.61184e-16"/>
            <geometry>
                <cylinder length="0.03" radius="0.012"/>
            </geometry>
        </collision>
        <collision>
            <origin xyz="-8.23994e-18 0.015 0.0235" rpy="3.14159 -2.44997e-30 2.05357e-33"/>
            <geometry>
                <box size="0.029 0.05 0.04"/>
            </geometry>
        </collision>
        <visual>
            <origin xyz="-0.00327966 0.0430868 0.0248666" rpy="1.5708 -1.5708 0"/>
            <geometry>
                <mesh filename="package://assets/merged/right_radius_visual.stl"/>
            </geometry>
            <material name="right_radius_material">
                <color rgba="0.371948 0.366528 0.352073 1.0"/>
            </material>
        </visual>
    </link>
    <!-- Joint from right_humerus to right_radius -->
    <joint name="right_elbow" type="revolute">
        <origin xyz="-0.0235 -0.112 -0.0025" rpy="3.14159 -1.5708 0"/>
        <parent link="right_humerus"/>
        <child link="right_radius"/>
        <axis xyz="0 0 1"/>
        <limit effort="10" velocity="6" lower="-3.141592653589793" upper="3.141592653589793"/>
    </joint>
    <!-- Joint from u_shoulder_2 to right_humerus -->
    <joint name="right_shoulder_roll" type="revolute">
        <origin xyz="-0.0225 -0.03 -0.035" rpy="-5.78241e-16 -1.5708 0"/>
        <parent link="u_shoulder_2"/>
        <child link="right_humerus"/>
        <axis xyz="0 0 1"/>
        <limit effort="10" velocity="6" lower="-3.141592653589793" upper="3.141592653589793"/>
    </joint>
    <!-- Joint from tronc to u_shoulder_2 -->
    <joint name="right_shoulder_pitch" type="revolute">
        <origin xyz="-0.0740868 -0.032127 0.1609" rpy="1.5708 -6.38201e-16 1.5708"/>
        <parent link="tronc"/>
        <child link="u_shoulder_2"/>
        <axis xyz="0 0 1"/>
        <limit effort="10" velocity="6" lower="-3.141592653589793" upper="3.141592653589793"/>
    </joint>
    <!-- Link u_neck -->
    <link name="u_neck">
        <inertial>
            <origin xyz="-2.20609e-17 -1.31112e-16 0.0128918" rpy="0 0 0"/>
            <mass value="0.0362092"/>
            <inertia ixx="9.33353e-06" ixy="4.25093e-12" ixz="-2.63852e-20" iyy="2.23897e-05" iyz="-1.44604e-19" izz="1.88135e-05"/>
        </inertial>
        <!-- Part u_neck -->
        <collision>
            <origin xyz="-0.025 -2.71223e-16 0.023" rpy="1.5708 -3.29254e-16 1.5708"/>
            <geometry>
                <box size="0.025 0.044 0.003"/>
            </geometry>
        </collision>
        <collision>
            <origin xyz="0.025 -2.49194e-16 0.023" rpy="1.5708 7.60838e-16 -1.5708"/>
            <geometry>
                <box size="0.025 0.044 0.003"/>
            </geometry>
        </collision>
        <visual>
            <origin xyz="-2.35581e-17 -1.249e-16 0.0128918" rpy="1.12133e-14 -2.28241e-15 3.14159"/>
            <geometry>
                <mesh filename="package://assets/merged/u_neck_visual.stl"/>
            </geometry>
            <material name="u_neck_material">
                <color rgba="0.301961 0.301961 0.301961 1.0"/>
            </material>
        </visual>
    </link>
    <!-- Link head -->
    <link name="head">
        <inertial>
            <origin xyz="0.00154487 -0.0388417 -0.0248279" rpy="0 0 0"/>
            <mass value="0.174917"/>
            <inertia ixx="0.000196166" ixy="8.95351e-06" ixz="-3.22141e-07" iyy="7.55235e-05" iyz="8.82273e-06" izz="0.000202779"/>
        </inertial>
        <!-- Part head -->
        <collision>
            <origin xyz="-0.0375 -0.0698 -0.042" rpy="-3.14159 1.16573e-15 1.27614e-13"/>
            <geometry>
                <box size="0.008 0.05 0.003"/>
            </geometry>
        </collision>
        <collision>
            <origin xyz="-6.45664e-15 -0.0698 -0.042" rpy="-3.14159 1.16573e-15 1.27614e-13"/>
            <geometry>
                <box size="0.008 0.05 0.003"/>
            </geometry>
        </collision>
        <collision>
            <origin xyz="0.0375 -0.0698 -0.042" rpy="-3.14159 1.16573e-15 1.27614e-13"/>
            <geometry>
                <box size="0.008 0.05 0.003"/>
            </geometry>
        </collision>
        <collision>
            <origin xyz="-9.39743e-15 -0.0468 -0.042" rpy="-3.14159 1.16573e-15 1.27614e-13"/>
            <geometry>
                <box size="0.083 0.008 0.003"/>
            </geometry>
        </collision>
        <collision>
            <origin xyz="-6.45664e-15 -0.0698 -0.042" rpy="-3.14159 1.16573e-15 1.27614e-13"/>
            <geometry>
                <box size="0.083 0.008 0.003"/>
            </geometry>
        </collision>
        <collision>
            <origin xyz="-3.50891e-15 -0.0928 -0.042" rpy="-3.14159 1.16573e-15 1.27614e-13"/>
            <geometry>
                <box size="0.083 0.008 0.003"/>
            </geometry>
        </collision>
        <collision>
            <origin xyz="0.00496822 -0.06905 -0.0235" rpy="1.5708 -1.5708 0"/>
            <geometry>
                <box size="0.03 0.03 0.028"/>
            </geometry>
        </collision>
        <collision>
            <origin xyz="-0.0375 -0.0698 -0.005" rpy="-3.14159 9.99201e-16 1.22132e-13"/>
            <geometry>
                <box size="0.008 0.05 0.003"/>
            </geometry>
        </collision>
        <collision>
            <origin xyz="-6.61363e-15 -0.0698 -0.005" rpy="-3.14159 9.99201e-16 1.22132e-13"/>
            <geometry>
                <box size="0.008 0.05 0.003"/>
            </geometry>
        </collision>
        <collision>
            <origin xyz="0.0375 -0.0698 -0.005" rpy="-3.14159 9.99201e-16 1.22132e-13"/>
            <geometry>
                <box size="0.008 0.05 0.003"/>
            </geometry>
        </collision>
        <collision>
            <origin xyz="-9.42952e-15 -0.0468 -0.005" rpy="-3.14159 9.99201e-16 1.22132e-13"/>
            <geometry>
                <box size="0.083 0.008 0.003"/>
            </geometry>
        </collision>
        <collision>
            <origin xyz="-6.61363e-15 -0.0698 -0.005" rpy="-3.14159 9.99201e-16 1.22132e-13"/>
            <geometry>
                <box size="0.083 0.008 0.003"/>
            </geometry>
        </collision>
        <collision>
            <origin xyz="-3.79774e-15 -0.0928 -0.005" rpy="-3.14159 9.99201e-16 1.22132e-13"/>
            <geometry>
                <box size="0.083 0.008 0.003"/>
            </geometry>
        </collision>
        <collision>
            <origin xyz="1.30104e-18 -0.015 -0.0235" rpy="4.00673e-32 2.86713e-30 -1.80961e-30"/>
            <geometry>
                <box size="0.029 0.05 0.04"/>
            </geometry>
        </collision>
        <visual>
            <origin xyz="0.00154487 -0.0388417 -0.0248279" rpy="1.5708 -1.5708 0"/>
            <geometry>
                <mesh filename="package://assets/merged/head_visual.stl"/>
            </geometry>
            <material name="head_material">
                <color rgba="0.437668 0.429692 0.406184 1.0"/>
            </material>
        </visual>
    </link>
    <!-- Frame camera (dummy link + fixed joint) -->
    <link name="camera">
        <origin xyz="0 0 0" rpy="0 -0 0"/>
        <inertial>
            <origin xyz="0 0 0" rpy="0 0 0"/>
            <mass value="1e-9"/>
            <inertia ixx="0" ixy="0" ixz="0" iyy="0" iyz="0" izz="0"/>
        </inertial>
    </link>
    <joint name="camera_frame" type="fixed">
        <origin xyz="0.024933 -0.06905 -0.0235" rpy="-1.24392e-13 1.5708 0"/>
        <parent link="head"/>
        <child link="camera"/>
        <axis xyz="0 0 0"/>
    </joint>
    <!-- Frame vive (dummy link + fixed joint) -->
    <link name="vive">
        <origin xyz="0 0 0" rpy="0 -0 0"/>
        <inertial>
            <origin xyz="0 0 0" rpy="0 0 0"/>
            <mass value="1e-9"/>
            <inertia ixx="0" ixy="0" ixz="0" iyy="0" iyz="0" izz="0"/>
        </inertial>
    </link>
    <joint name="vive_frame" type="fixed">
        <origin xyz="-2.95597e-15 -0.0998 -0.0235" rpy="-1.5708 -1.16113e-15 -3.14159"/>
        <parent link="head"/>
        <child link="vive"/>
        <axis xyz="0 0 0"/>
    </joint>
    <!-- Joint from u_neck to head -->
    <joint name="head_pitch" type="revolute">
        <origin xyz="-0.0235 -4.85723e-16 0.04" rpy="-1.5708 -7.60838e-16 1.5708"/>
        <parent link="u_neck"/>
        <child link="head"/>
        <axis xyz="0 0 1"/>
        <limit effort="10" velocity="6" lower="-3.141592653589793" upper="3.141592653589793"/>
    </joint>
    <!-- Joint from tronc to u_neck -->
    <joint name="head_yaw" type="revolute">
        <origin xyz="2.67834e-14 -0.037127 0.1858" rpy="1.12133e-14 -2.28241e-15 -3.14159"/>
        <parent link="tronc"/>
        <child link="u_neck"/>
        <axis xyz="0 0 1"/>
        <limit effort="10" velocity="6" lower="-3.141592653589793" upper="3.141592653589793"/>
    </joint>
</robot>
